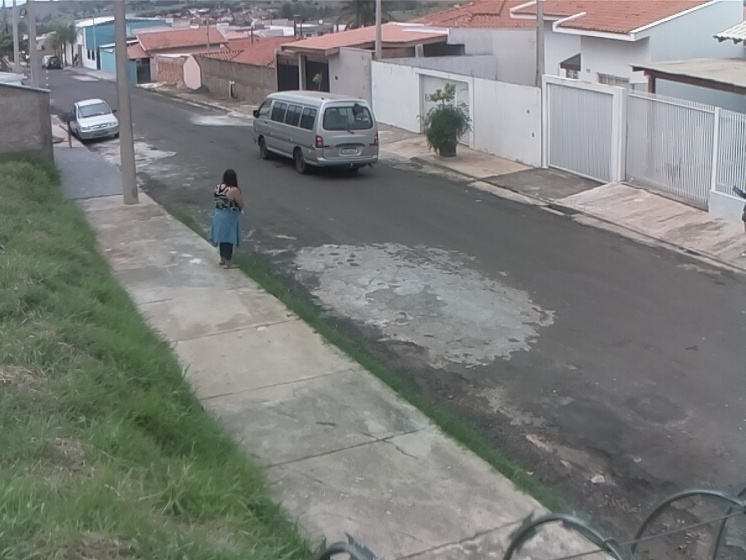person: (211, 167, 245, 272)
